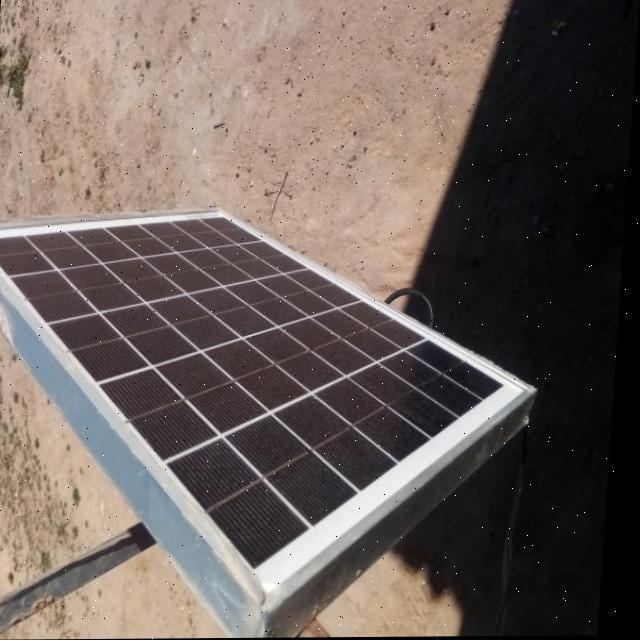Normal Solar Panel: (0, 202, 547, 615)
